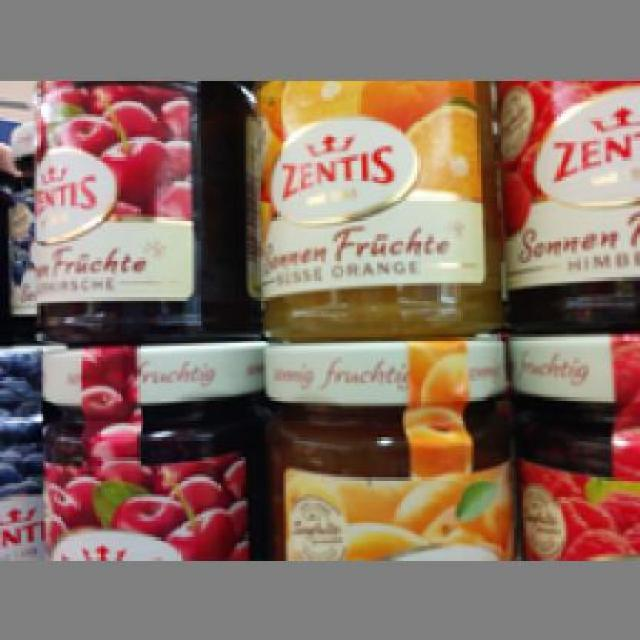Jam: (251, 79, 503, 332), (28, 77, 255, 340), (260, 340, 514, 557), (34, 340, 260, 554), (492, 76, 634, 332), (502, 332, 638, 554)
